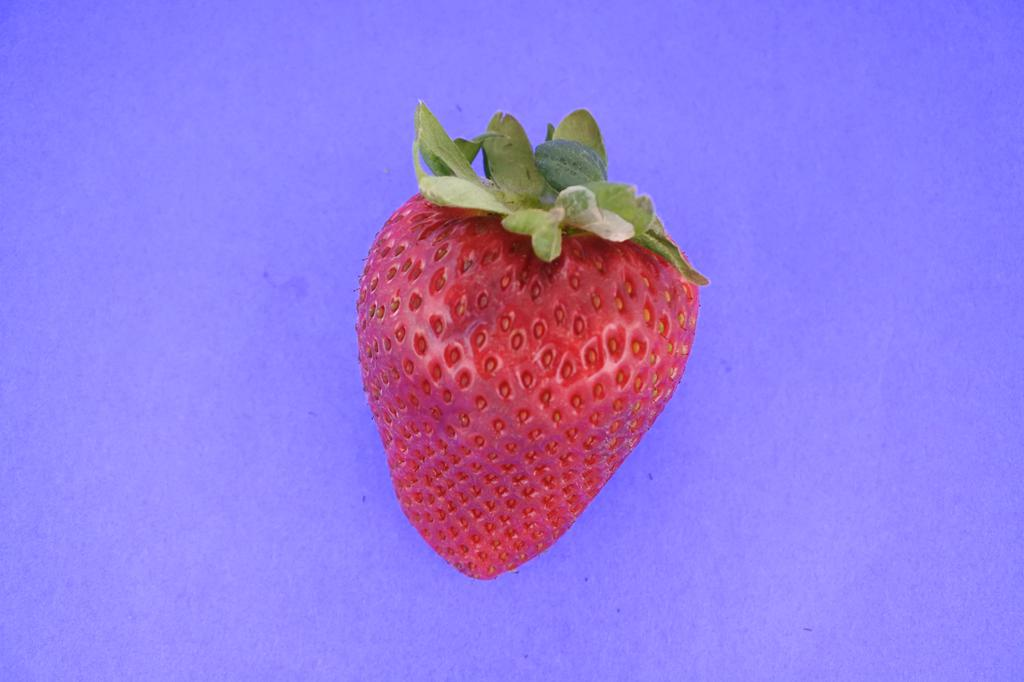red strawberry: (355, 99, 711, 583)
